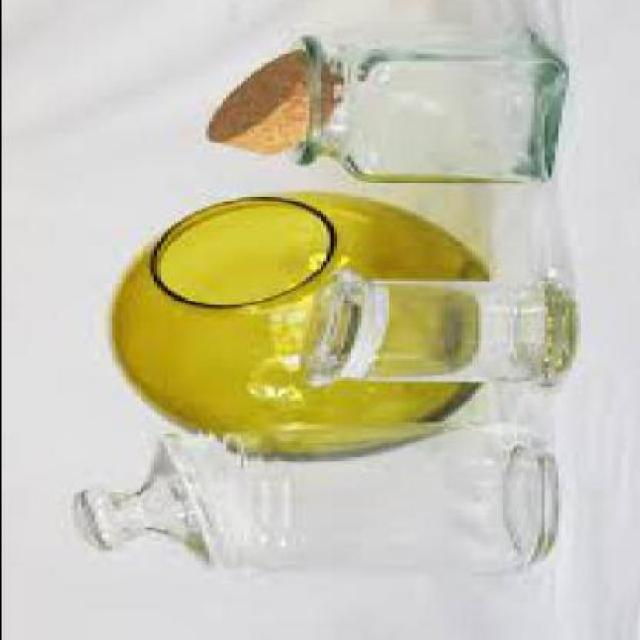GLASS: (107, 192, 491, 465), (65, 427, 550, 571), (281, 38, 567, 185), (304, 274, 574, 388)
